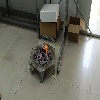fire: (42, 39, 48, 54), (35, 51, 36, 53)
